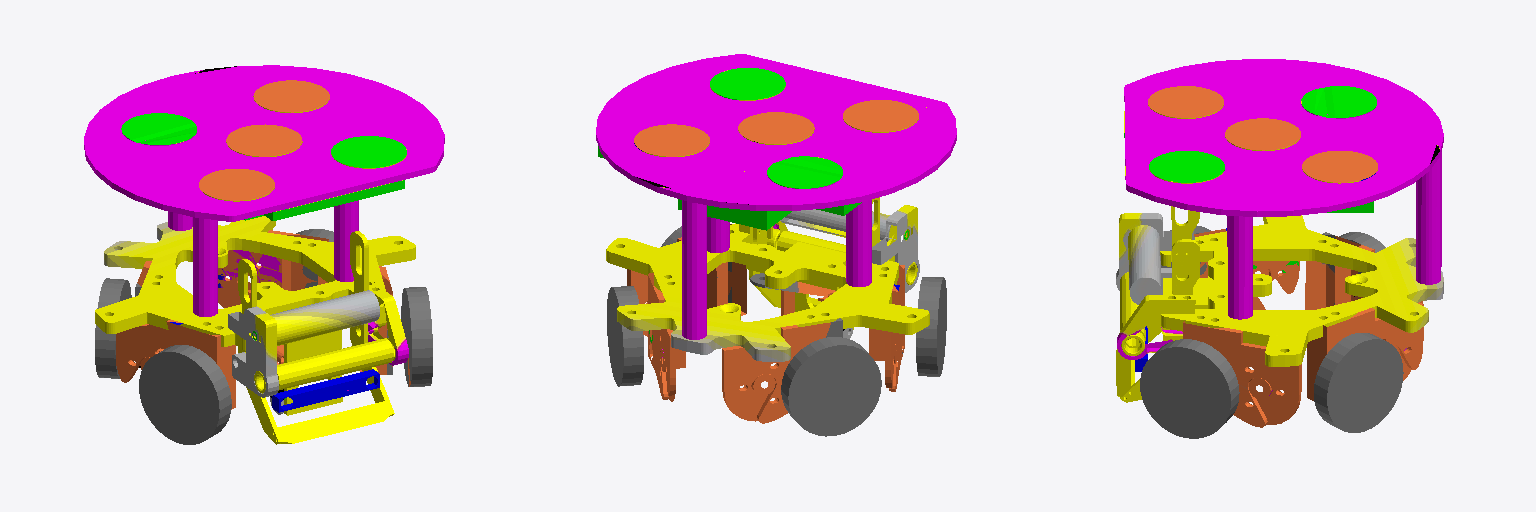
3 renders of one model, left to right at view 1: azimuth 30°, elevation 25°; view 2: azimuth 150°, elevation 25°; view 3: azimuth 270°, elevation 25°, orthographic.
Visible parts, largest first — view 1: Cylinder_Cylinder; view 2: Cylinder_Cylinder; view 3: Cylinder_Cylinder.
Boxes of the visible parts, x1,y1,x2,y2 form: Cylinder_Cylinder: [84, 65, 444, 444]; Cylinder_Cylinder: [596, 54, 956, 436]; Cylinder_Cylinder: [1116, 59, 1443, 438].
Bounding box in the file's own units: 0.1798 × 0.1337 × 0.1632.
1 materials, 1 textured.